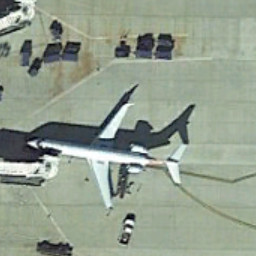Airplane: (22, 93, 193, 222)
